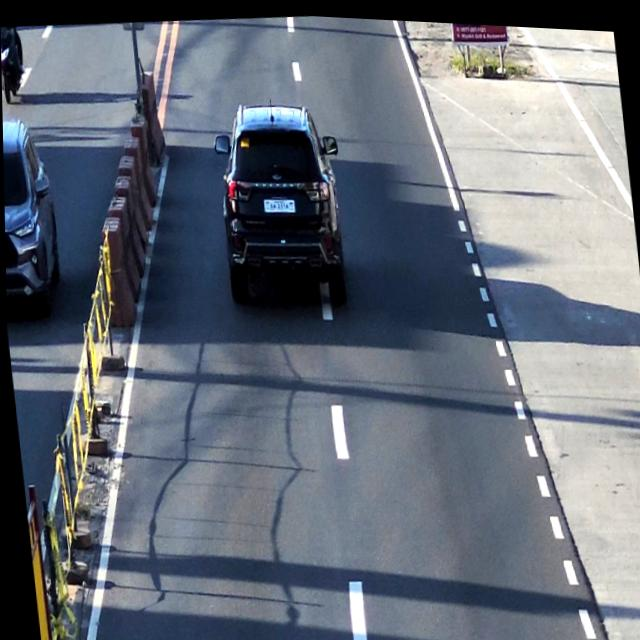Car: (208, 99, 349, 302)
License-Plate: (260, 188, 298, 214)
